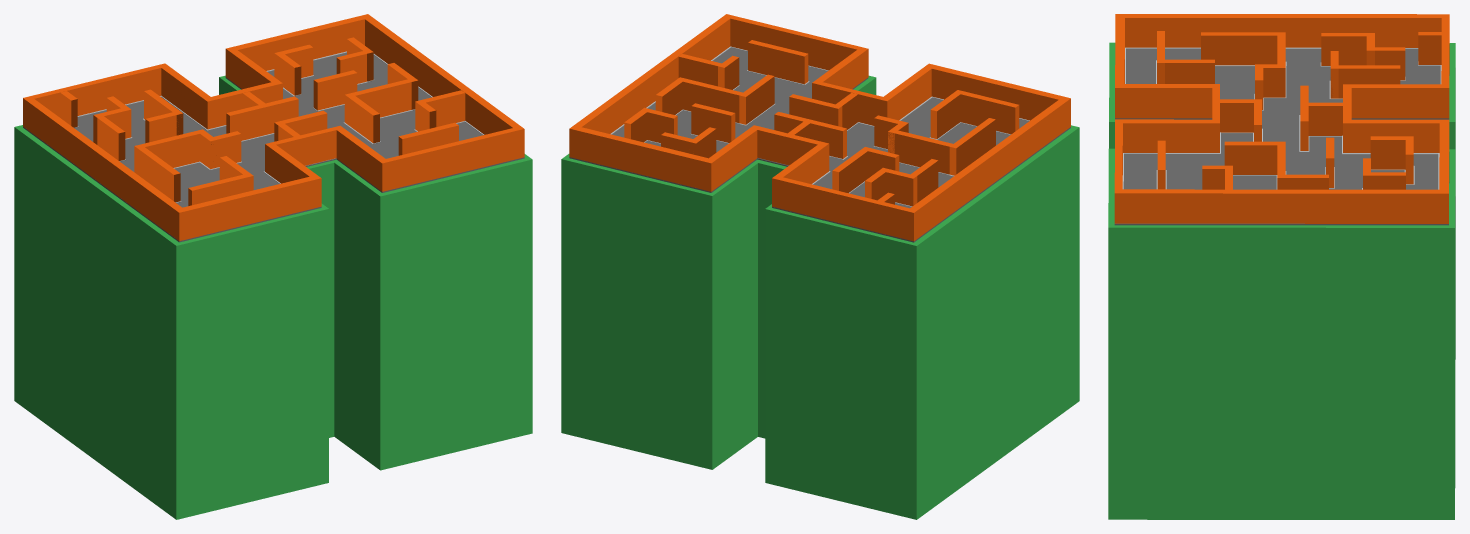
Rendered from Level_23.FBX.
The picture shows the model from 3 angles, left to right: view 1: azimuth 30°, elevation 25°; view 2: azimuth 150°, elevation 25°; view 3: azimuth 270°, elevation 25°; orthographic projection. The views are drawn at different scales.
Parts seen in each view (by area): view 1: Level_23; view 2: Level_23; view 3: Level_23.
Boxes of the visible parts, <box> form: Level_23: <box>14,14,532,519</box>; Level_23: <box>561,14,1079,519</box>; Level_23: <box>1108,14,1455,519</box>.
Bounding box in the file's own units: 177 × 144 × 140.
